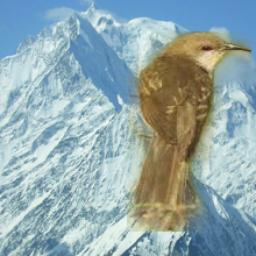Cuckoo: (126, 31, 250, 232)
